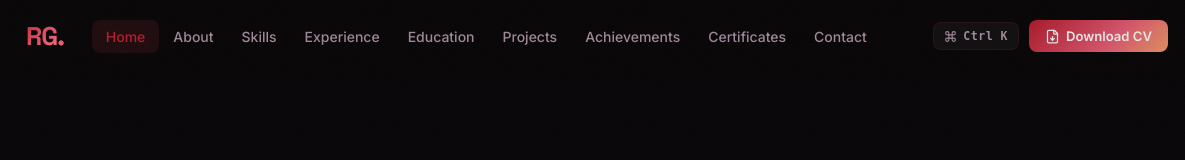
Test: Navbar › desktop link toggle › logo click toggles links on desktop
Click the button with aria-label "hide section links": (45, 36) [16,16,74,56]
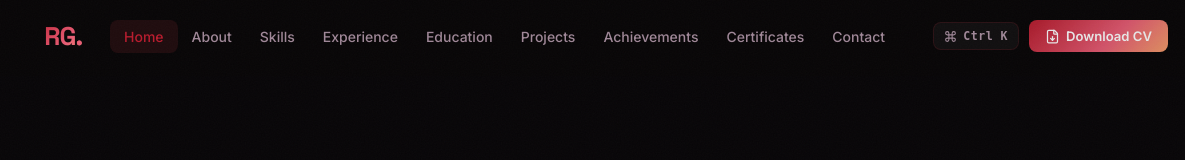
expect the button with aria-label "show section links" is shown: met
Click the button with aria-label "show section links": (63, 36) [34,16,92,56]
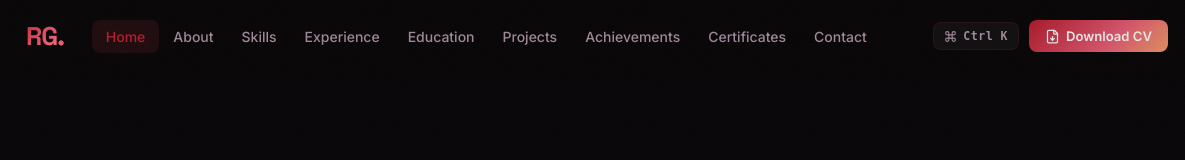
expect the button with aria-label "hide section links" is shown: met, box [16,16,74,56]
